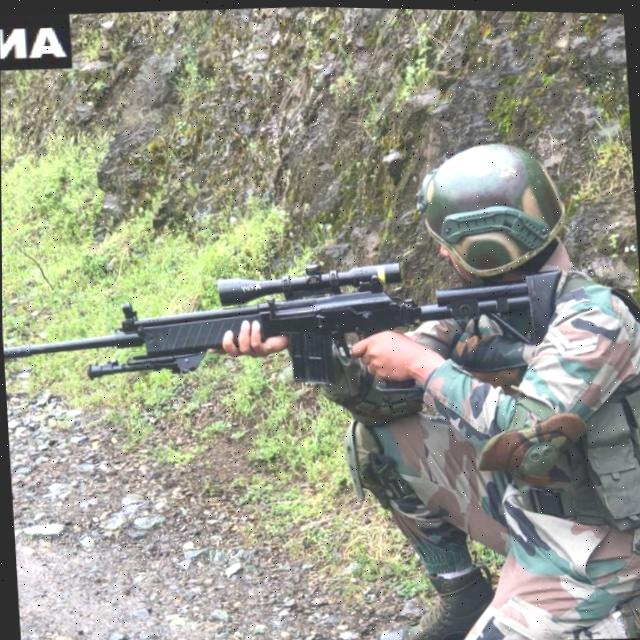firearm: (1, 239, 568, 406)
